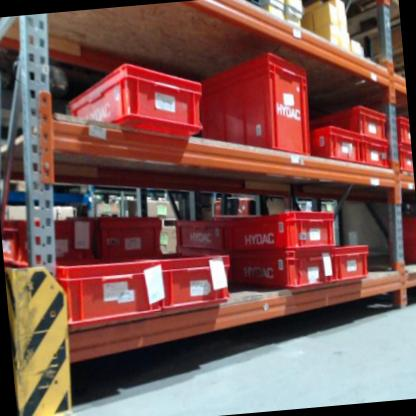small_load_carrier: (185, 45, 317, 168), (59, 53, 207, 151), (54, 256, 164, 331), (226, 242, 337, 297), (1, 213, 98, 269), (224, 210, 339, 251), (94, 208, 172, 265), (306, 98, 392, 146), (156, 255, 231, 310), (173, 211, 243, 253), (306, 122, 362, 169), (332, 236, 378, 291), (355, 140, 394, 170), (389, 111, 410, 148), (395, 146, 413, 177)
